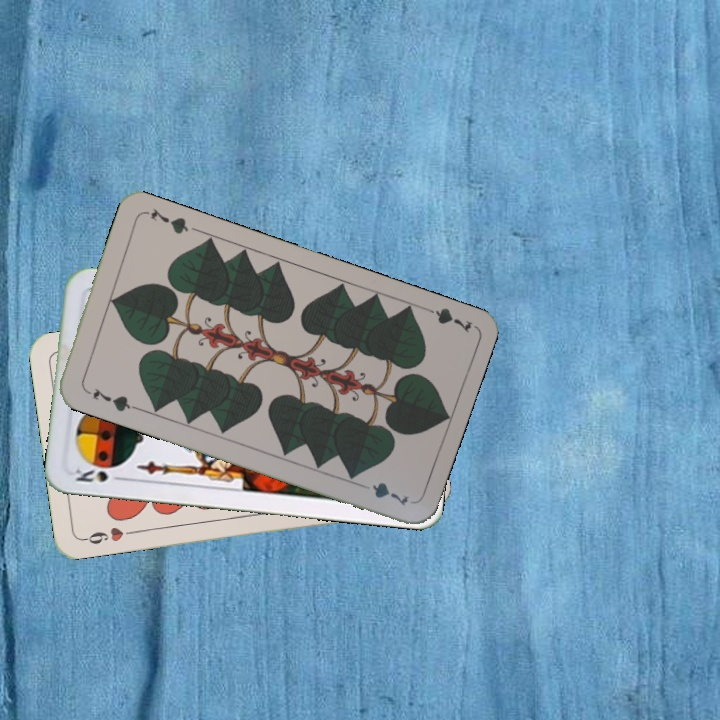G7: (417, 301, 474, 336), (89, 384, 138, 414)
H9: (79, 523, 138, 547)
SK: (71, 464, 128, 485)
